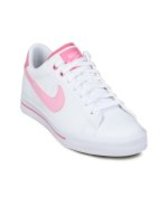shoes: (20, 41, 154, 155)
